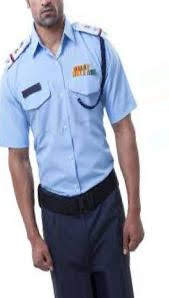uniform: (8, 22, 147, 287)
